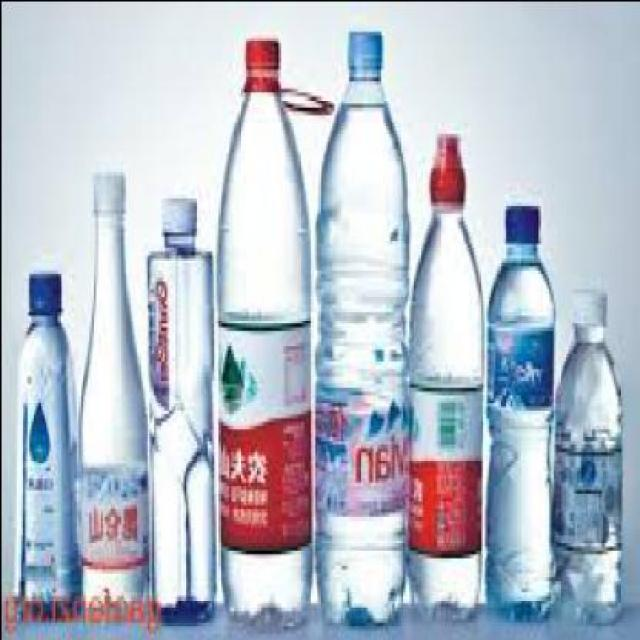PLASTIC: (313, 22, 410, 621), (216, 34, 312, 621), (408, 125, 486, 617), (77, 167, 151, 610), (483, 201, 557, 625), (148, 189, 215, 625), (554, 280, 624, 622), (217, 311, 314, 557), (15, 269, 82, 614), (408, 372, 483, 556), (318, 368, 408, 518), (552, 417, 623, 552), (81, 454, 148, 564), (486, 311, 554, 409), (432, 125, 466, 208), (245, 30, 283, 87), (504, 200, 542, 246), (348, 22, 384, 68), (30, 266, 62, 314), (574, 280, 608, 322), (163, 194, 199, 231), (97, 167, 129, 204)
